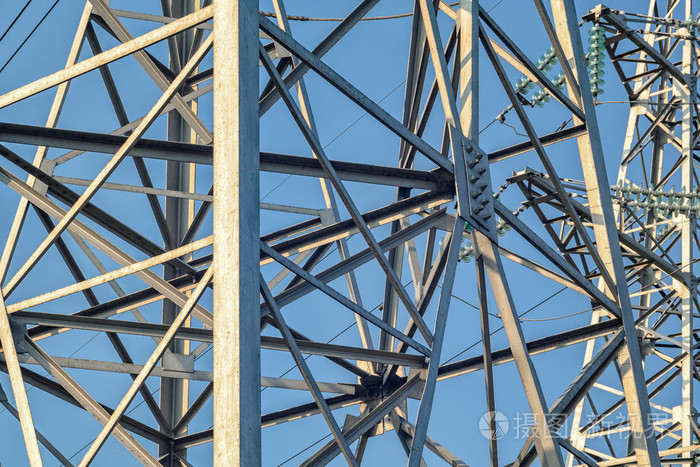insulator: (612, 178, 700, 216), (516, 43, 557, 89), (586, 26, 609, 96), (529, 74, 568, 105)
